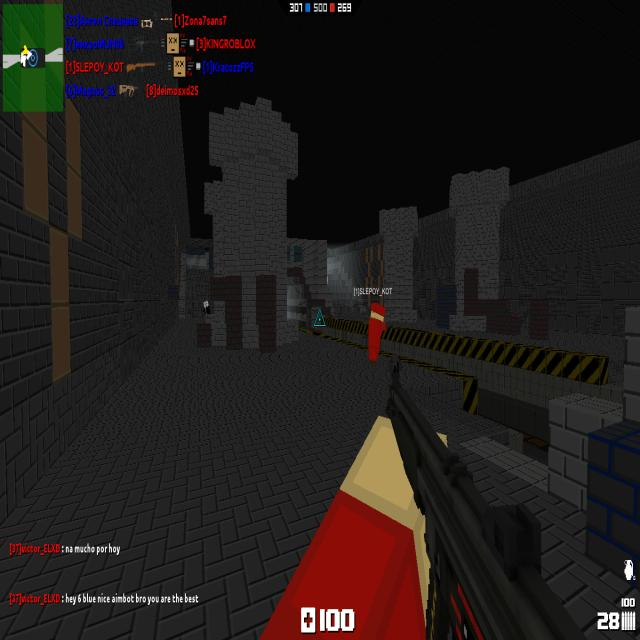enemy: (203, 299, 211, 315), (327, 274, 328, 284)
